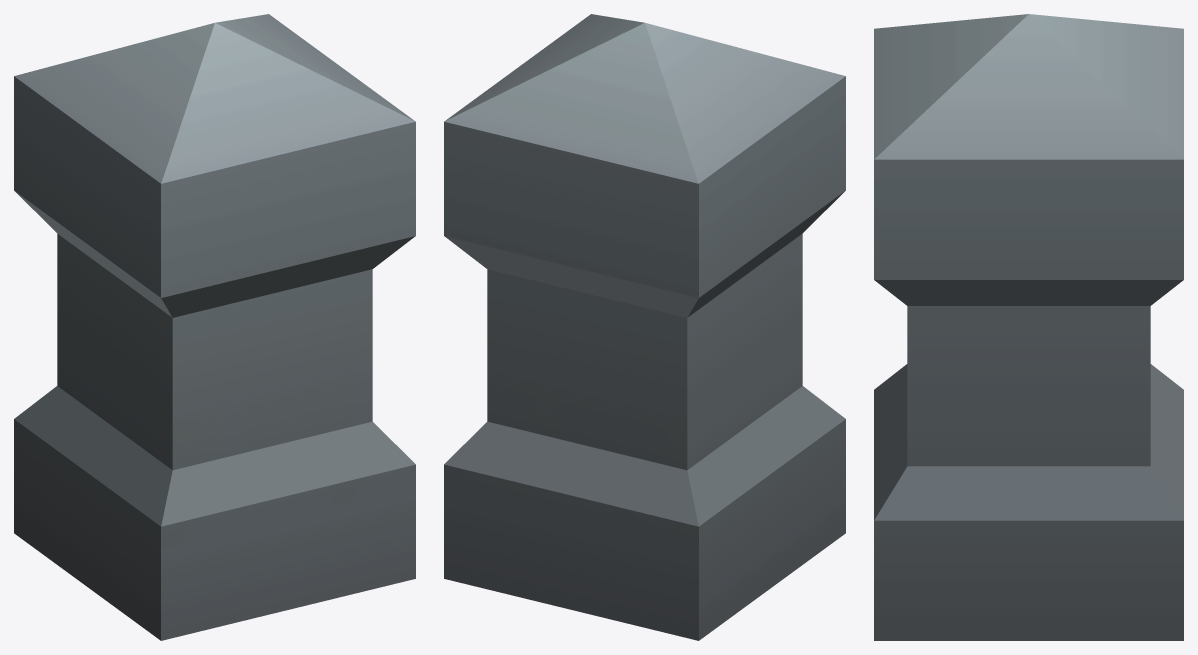
File: column.glb
3 views of the same model, side by side, from view 1: azimuth 30°, elevation 25°; view 2: azimuth 150°, elevation 25°; view 3: azimuth 270°, elevation 25° (orthographic). The views are drawn at different scales.
Parts seen in each view (by area): view 1: column; view 2: column; view 3: column.
Part boxes in pixels (bbox=[...]): column: bbox=[14, 14, 415, 640]; column: bbox=[444, 14, 845, 640]; column: bbox=[874, 14, 1183, 640].
Bounding box in the file's own units: 0.7 × 1.4 × 0.7.
Materials: 1 (1 with a texture image).
